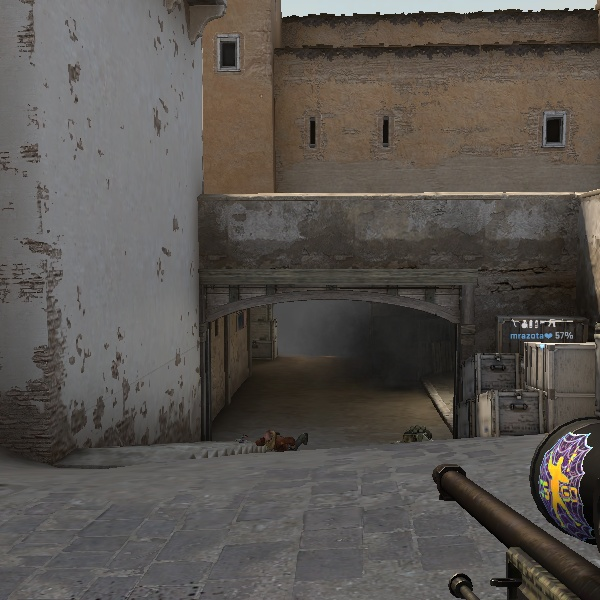ct_head: (507, 394, 600, 559)
